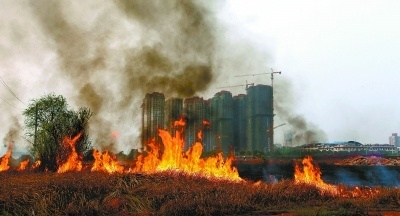fire: (127, 117, 253, 181), (290, 156, 397, 202), (55, 132, 85, 173), (0, 145, 42, 173)
